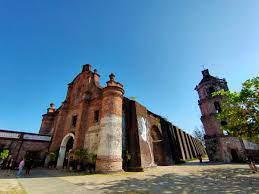santa_maria_church_santa_maria_ilocos_sur: (37, 60, 128, 176)
unfinished_paint: (81, 113, 126, 160)
